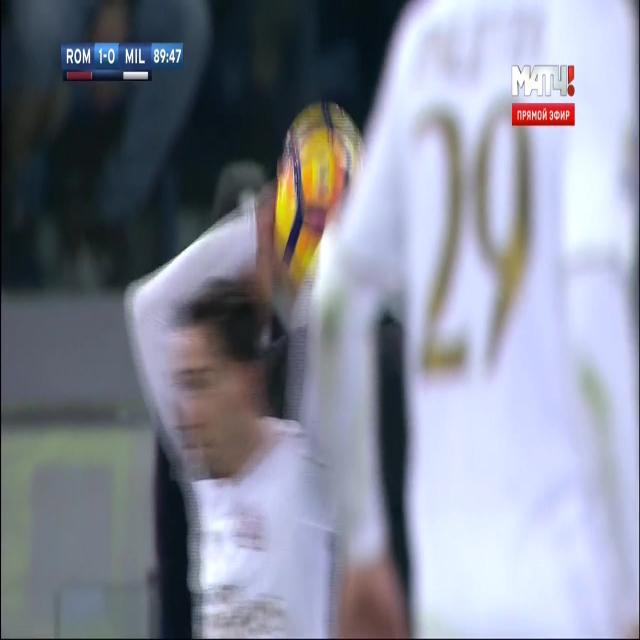Ball: (274, 93, 365, 283)
Player: (314, 0, 639, 637), (123, 182, 336, 638)
